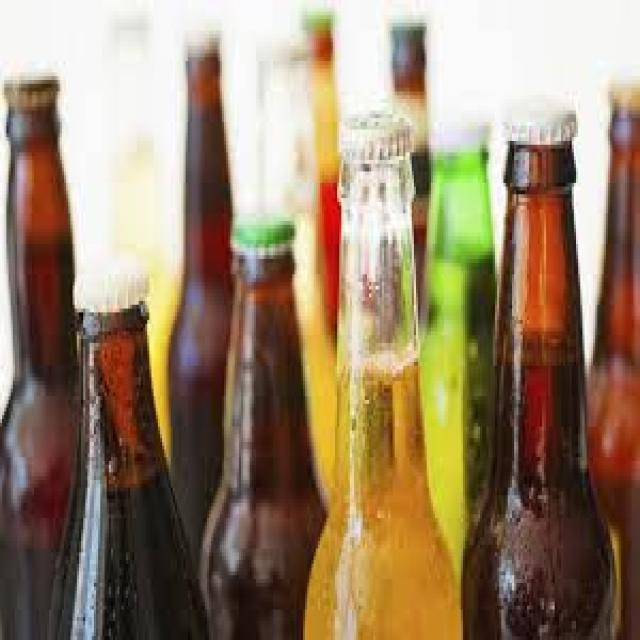glass: (301, 149, 459, 636), (459, 145, 614, 636), (40, 305, 205, 636), (197, 248, 327, 636), (0, 107, 90, 636), (168, 53, 239, 583), (420, 149, 495, 591), (584, 111, 638, 636), (303, 35, 341, 336), (390, 31, 429, 290)
metal: (499, 95, 576, 145), (71, 259, 148, 305), (339, 107, 408, 152), (229, 210, 293, 248), (2, 65, 58, 103), (429, 118, 486, 149), (181, 19, 220, 53), (297, 8, 331, 34), (608, 80, 638, 107)
